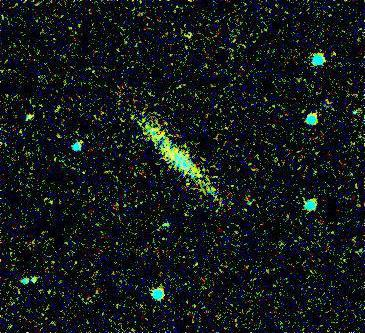star: (318, 42, 348, 72)
